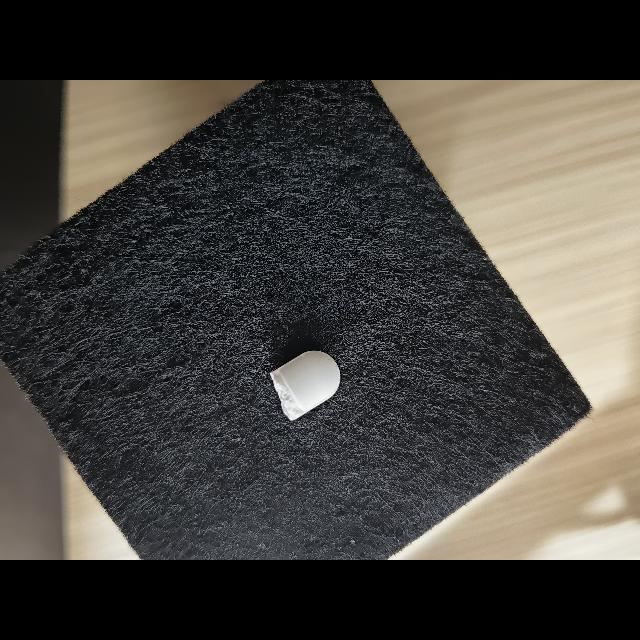Chipped Pill: (270, 351, 340, 421)
